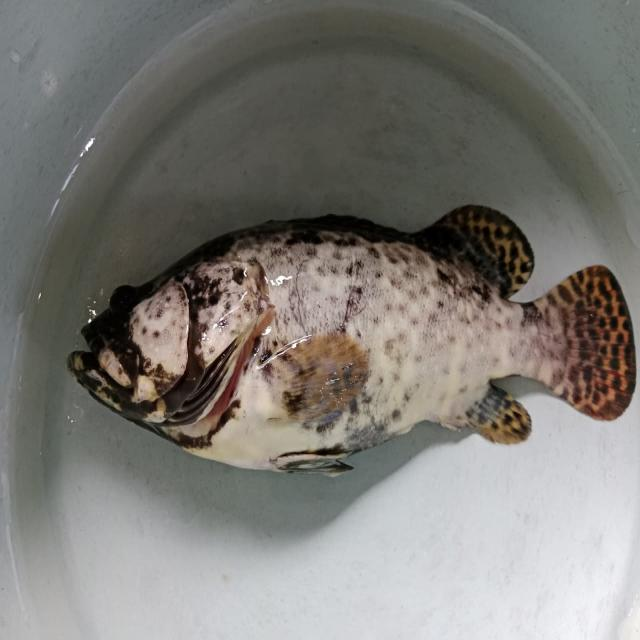ikan: (66, 201, 636, 477)
